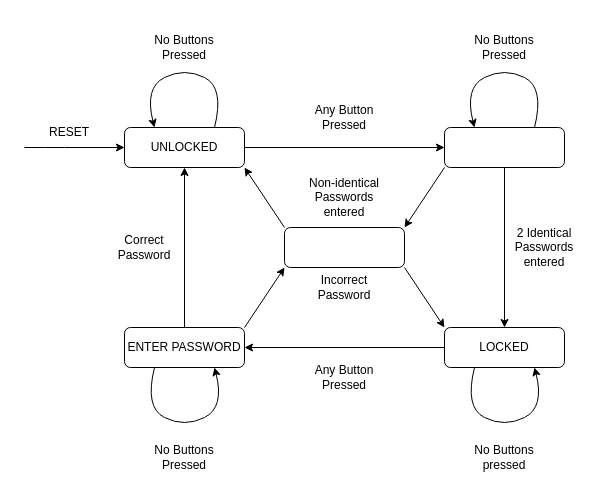
Some shapes in this 602 by 504 pixel diagram are drawn without their labels. The shapes that lost their labels are listed below. From the top down, each one's centre as x and y in pixels, then its label:
At (504,147): "CREATE PASSWORD".
At (344,247): "ERROR".
